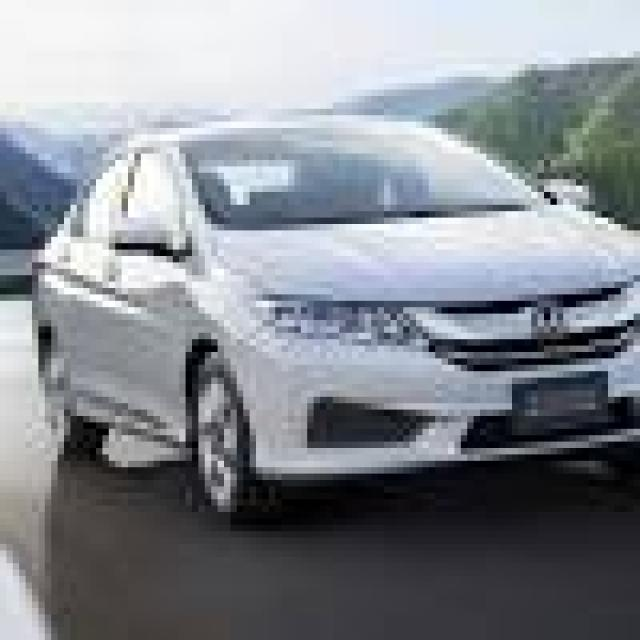car: (28, 112, 640, 525)
